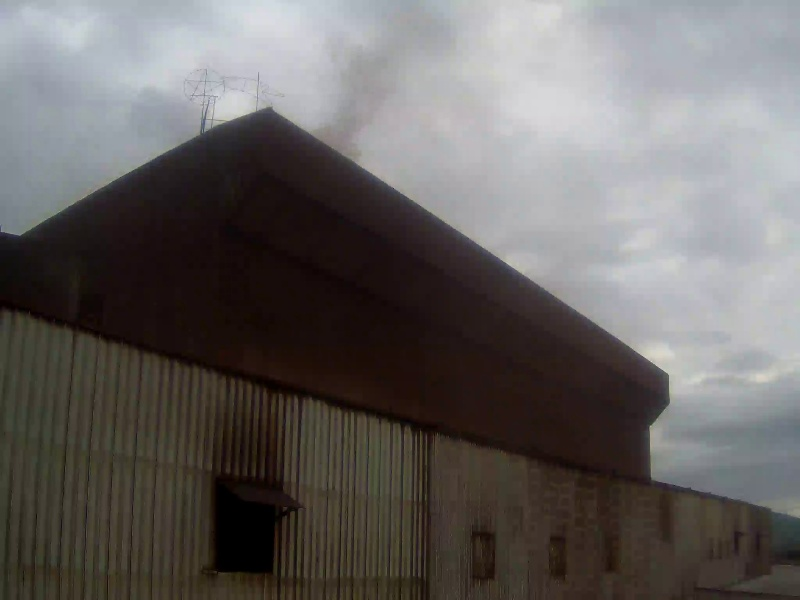bom: (7, 17, 276, 194)
ruim: (253, 25, 668, 428)
